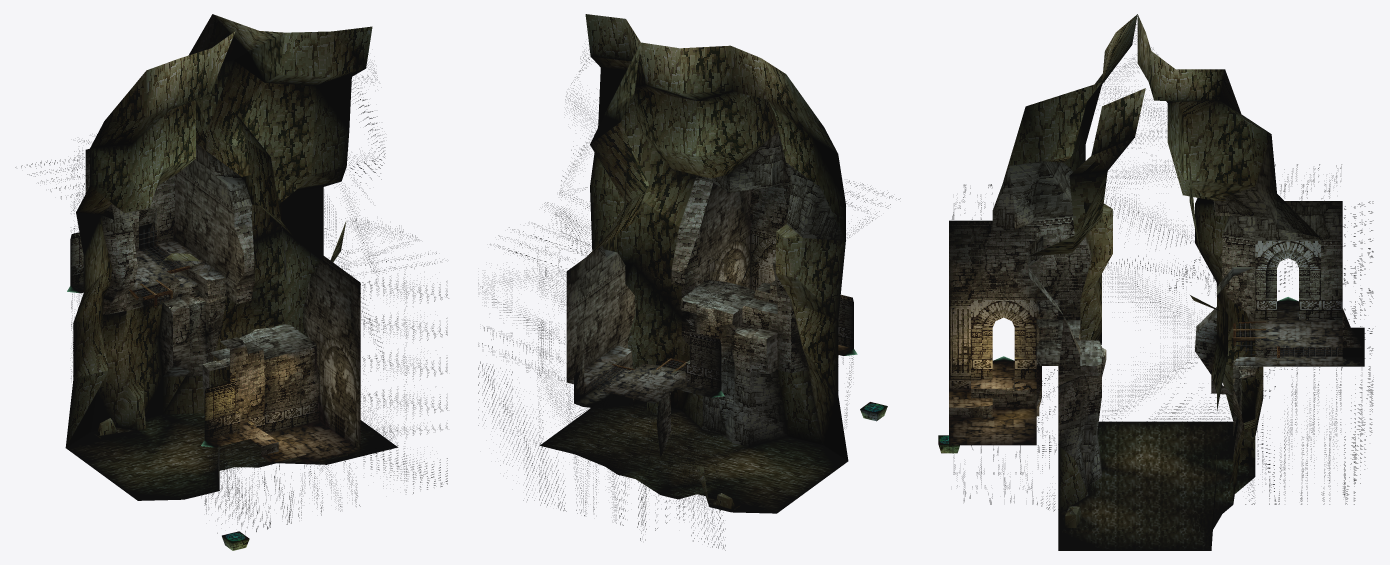
Rendered from MAP055.gltf.
3 views of the same model, side by side, from view 1: azimuth 30°, elevation 25°; view 2: azimuth 150°, elevation 25°; view 3: azimuth 270°, elevation 25° (orthographic). The views are drawn at different scales.
Bounding box in the file's own units: 179 × 282 × 256.
Materials: 75 (75 with a texture image).
